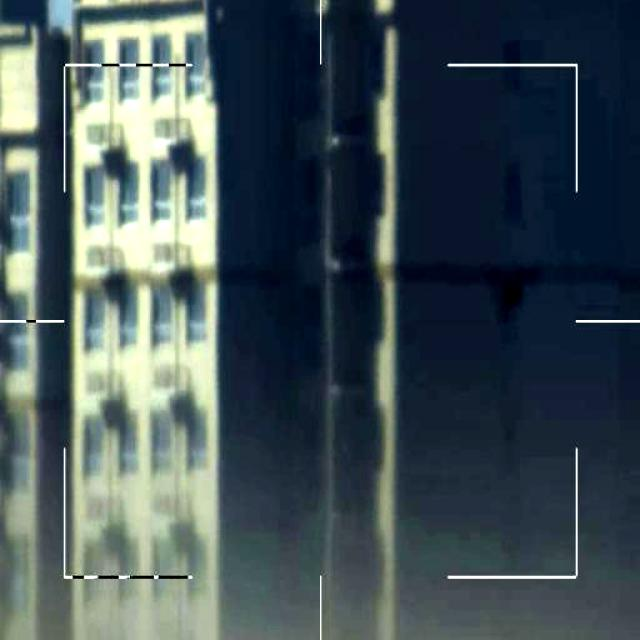bird: (494, 260, 545, 322)
